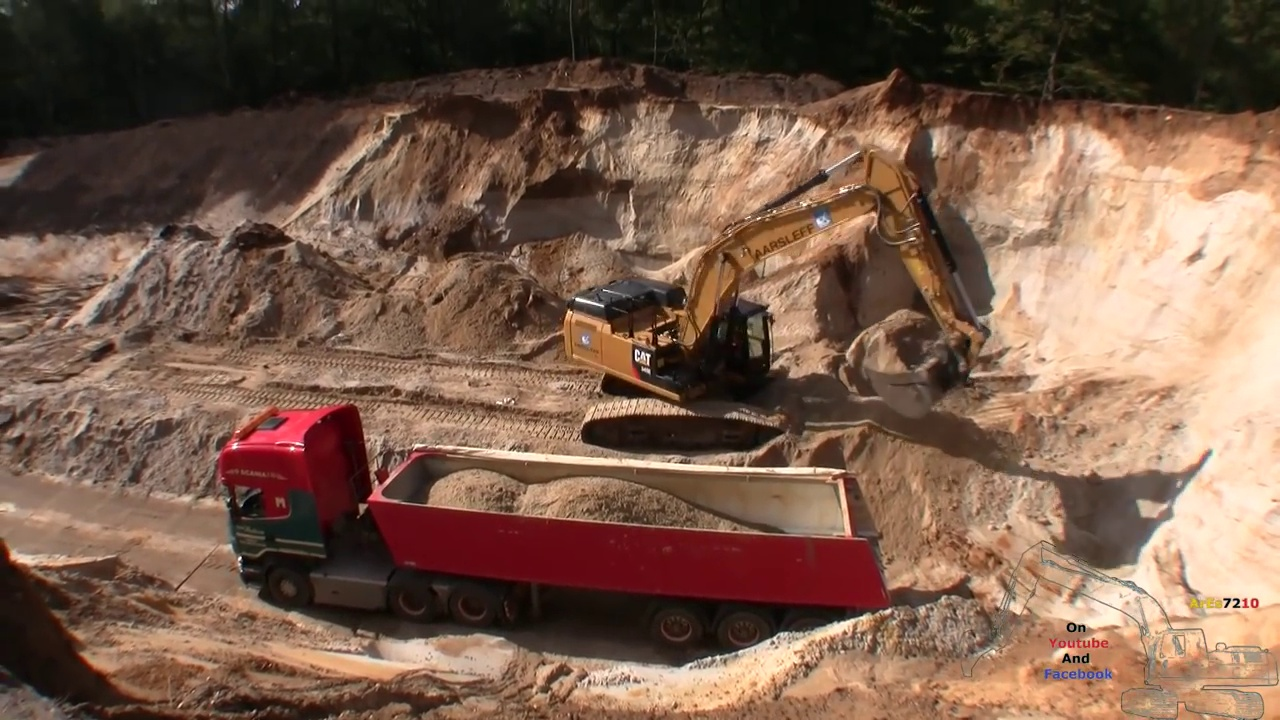excavator: (556, 145, 990, 455)
truck: (211, 404, 898, 650)
